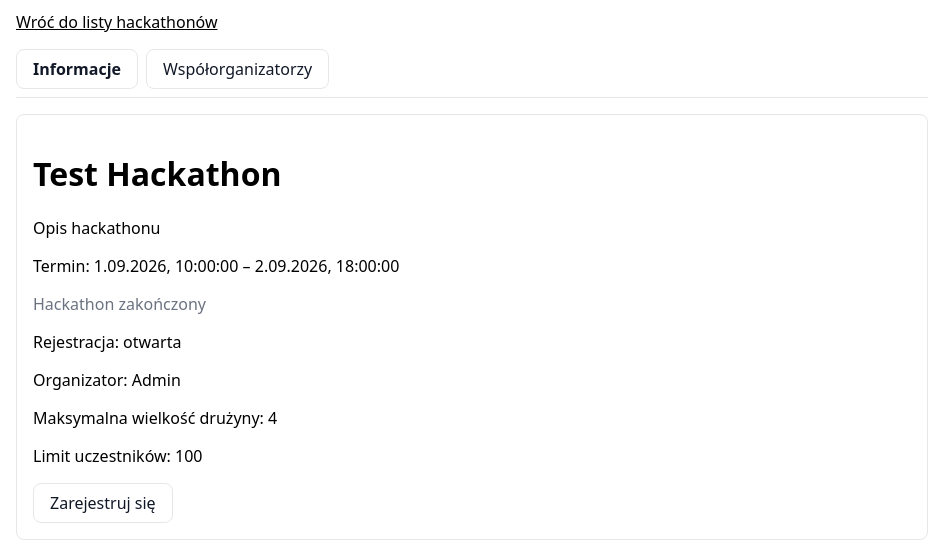
Test: HackathonDetailsPage › does not show management controls to a viewer
Click the tab "Współorganizatorzy".
click(238, 69)  # box [146,49,329,89]
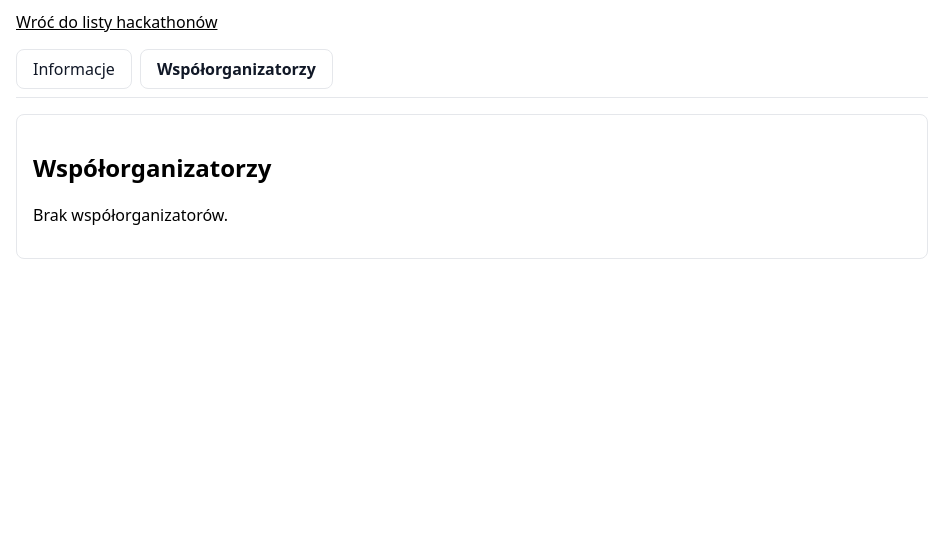
Check: the heading "Współorganizatorzy" is shown, box [33,151,271,184]
